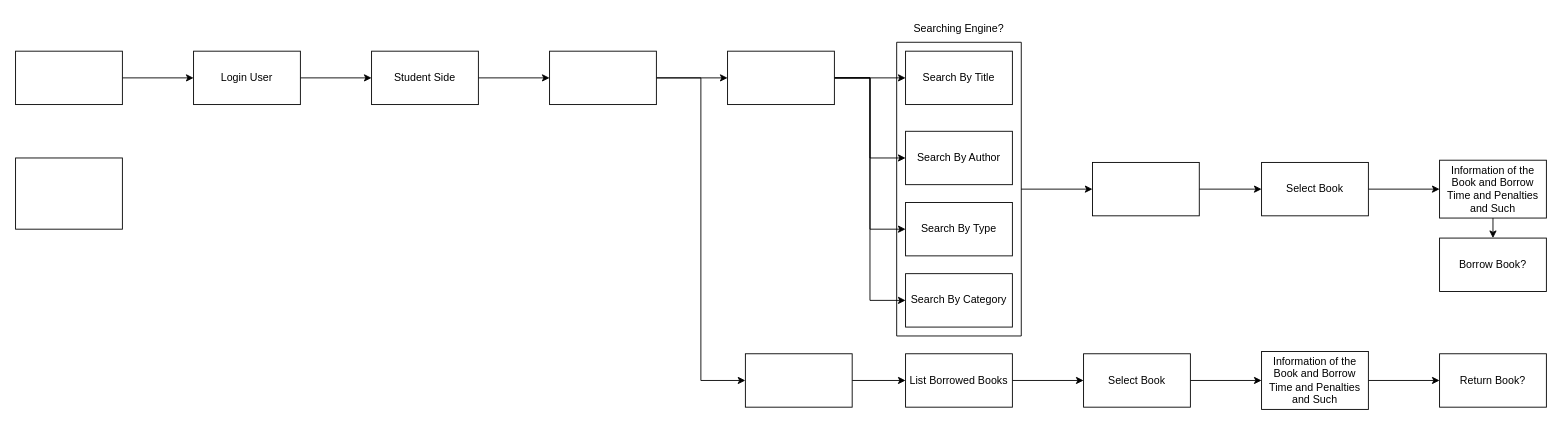
This 1562x425 diagram has some shape labels left out. The shapes that lost their labels are listed below. From the top down, each one's centre as x and y in pixels, then its label:
point (68, 77): Program Open
point (602, 77): Menu
point (780, 77): Book Searching
point (68, 193): Users Database (Username Password) - Admin - User
point (1145, 189): Returns the Book
point (798, 380): Book Checker?
